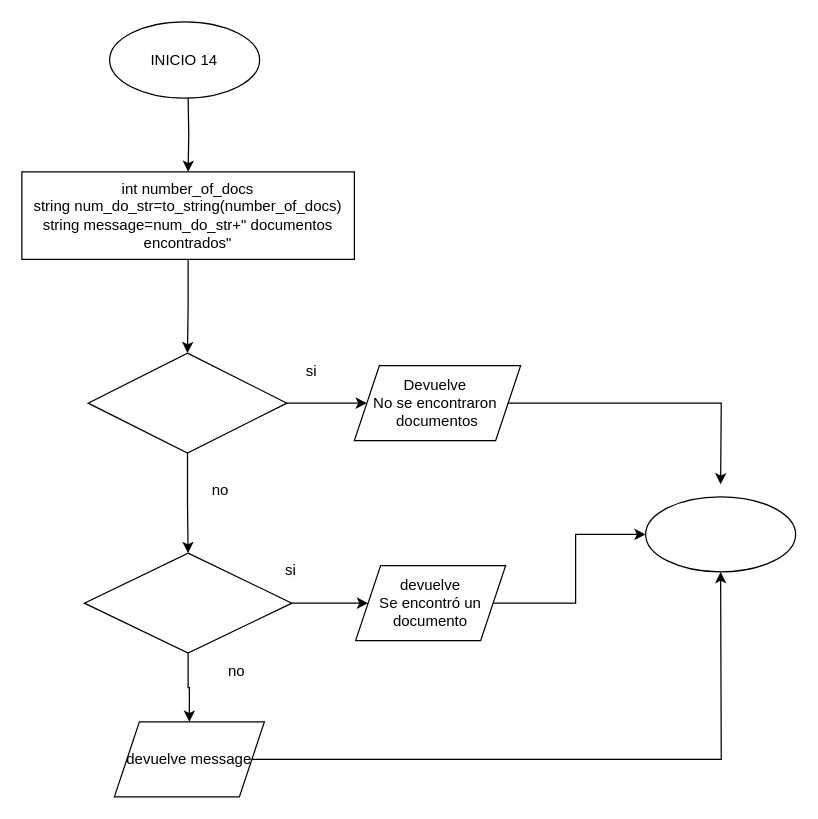
The diagram is 818 pixels wide and 819 high, and some of its shapes have lost their labels. The shapes that lost their labels are listed below. From the top down, each one's centre as x and y in pixels, then its label:
At (x=187, y=402): "number_of_docs<=0".
At (x=720, y=534): "FIN".
At (x=187, y=602): "number_of_docs==1".
